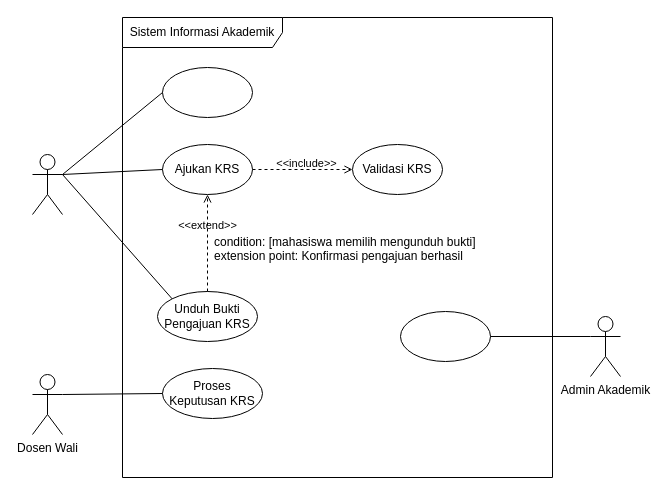
The diagram is 667 pixels wide and 495 high, and some of its shapes have lost their labels. Here are the shapes that lost their labels. From the top down, the centre of each, then its label:
At pixel 207 92: "Lihat Jadwal Kuliah".
At pixel 47 184: "Mahasiswa".
At pixel 445 336: "Kelola Jadwal Kuliah".
